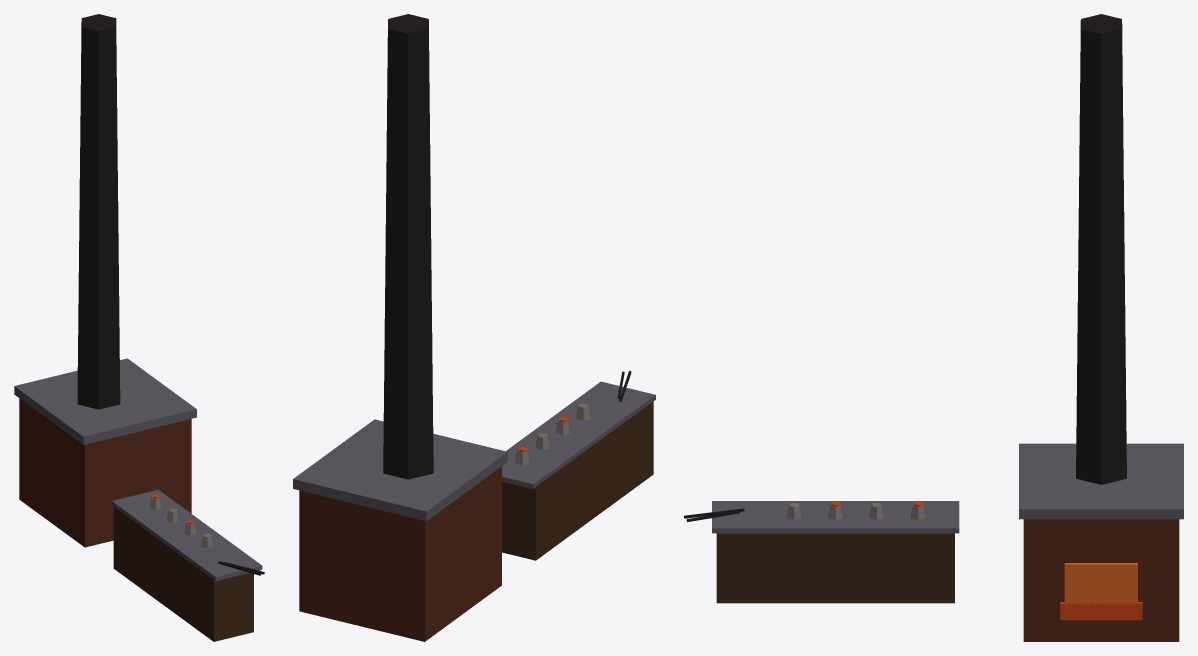
The model's file is cold-assay-fire.glb.
3 renders of one model, left to right at view 1: azimuth 30°, elevation 25°; view 2: azimuth 150°, elevation 25°; view 3: azimuth 270°, elevation 25°, orthographic. The views are drawn at different scales.
Visible parts, largest first — view 1: cold-assay-fire; view 2: cold-assay-fire; view 3: cold-assay-fire.
Part boxes in pixels (x1,y1,x2,y2): cold-assay-fire: [14, 14, 264, 641]; cold-assay-fire: [293, 14, 655, 641]; cold-assay-fire: [684, 14, 1183, 641].
Size of the model in its own units: 1.7 by 7.02 by 5.45.
